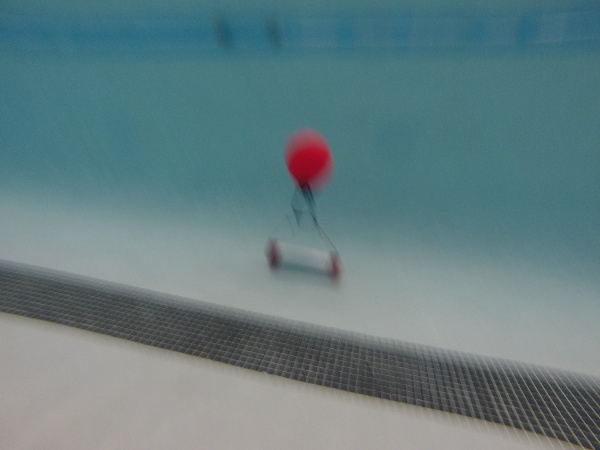buoy_red: (281, 131, 333, 195)
